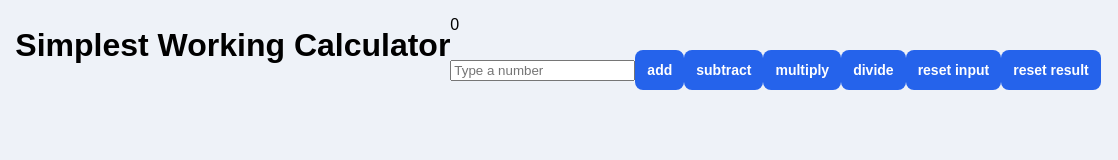
React Calculator › resets the input and result independently
Step 1. Type "12" into the number field with placeholder "Type a number" → (543,70), box [450,60,635,81]
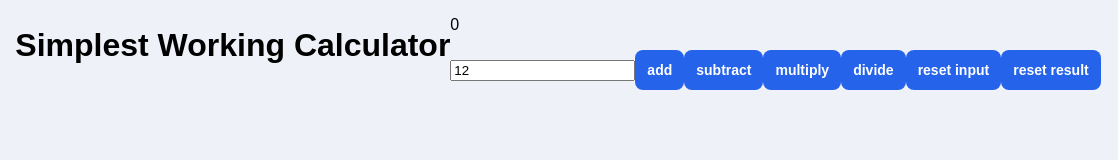
Step 2. Click the button "add" → (660,70), box [635,50,684,90]
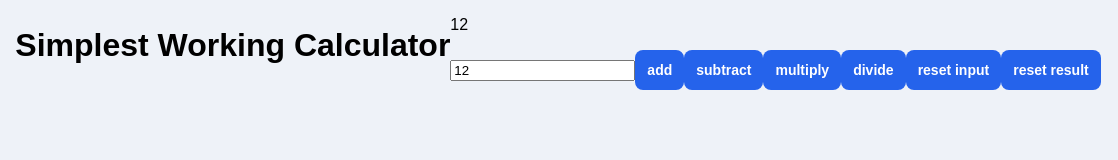
Step 3. Click the button "reset input" → (953,70), box [906,50,1001,90]
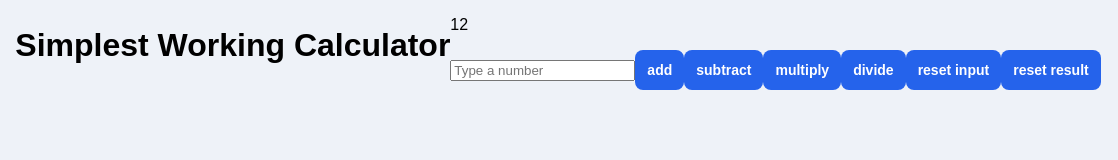
expect the text "12" is shown: met, box [450,16,468,33]
expect the number field with placeholder "Type a number" is not empty: met, box [450,60,635,81]
Step 4. Click the button "reset result" → (1051,70), box [1001,50,1101,90]
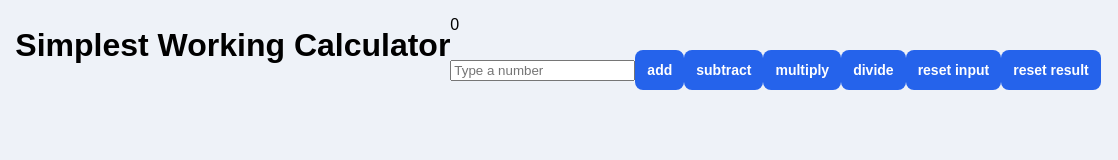
expect the text "0" is shown: met, box [450,16,459,33]
